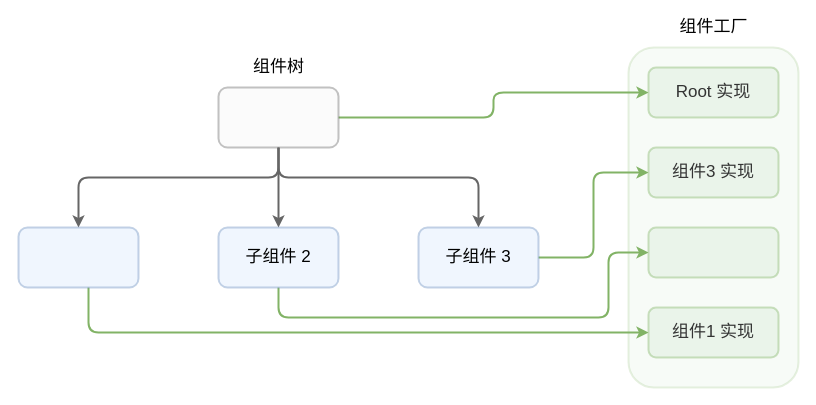
The diagram is 816 pixels wide and 405 high, and some of its shapes have lost their labels. Each missing label, with the centre of its shape:
"Root 组件" belongs at pixel 278 117.
"子组件 1" belongs at pixel 78 257.
"组件2 实现" belongs at pixel 713 252.
